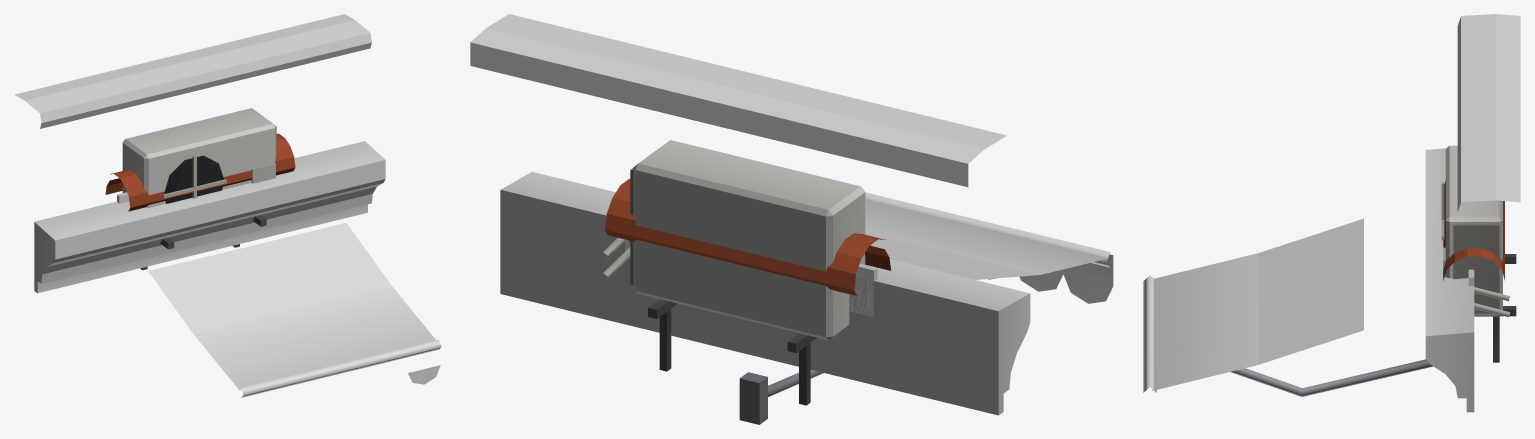
The model's file is casas.glb.
3 views of the same model, side by side, from view 1: azimuth 30°, elevation 25°; view 2: azimuth 150°, elevation 25°; view 3: azimuth 270°, elevation 25° (orthographic). The views are drawn at different scales.
Visible parts, largest first — view 1: cornisa, toldo, aire, cumbrera; view 2: cornisa, aire, toldo, cumbrera, brazo, cenefa; view 3: toldo, cornisa, aire, brazo, cumbrera.
Boxes of the visible parts, x1,y1,x2,y2 form: cornisa: [14, 14, 385, 293]; toldo: [148, 223, 441, 397]; aire: [122, 108, 276, 270]; cumbrera: [105, 133, 295, 211]; cornisa: [470, 14, 1030, 415]; aire: [603, 140, 865, 405]; toldo: [865, 192, 1113, 303]; cumbrera: [605, 178, 890, 295]; brazo: [739, 370, 823, 424]; cenefa: [625, 240, 877, 317]; toldo: [1143, 218, 1363, 392]; cornisa: [1425, 14, 1520, 412]; aire: [1441, 145, 1516, 362]; brazo: [1230, 359, 1432, 396]; cumbrera: [1443, 181, 1504, 280].
Size of the model in its own units: 2 by 1.42 by 1.71.
